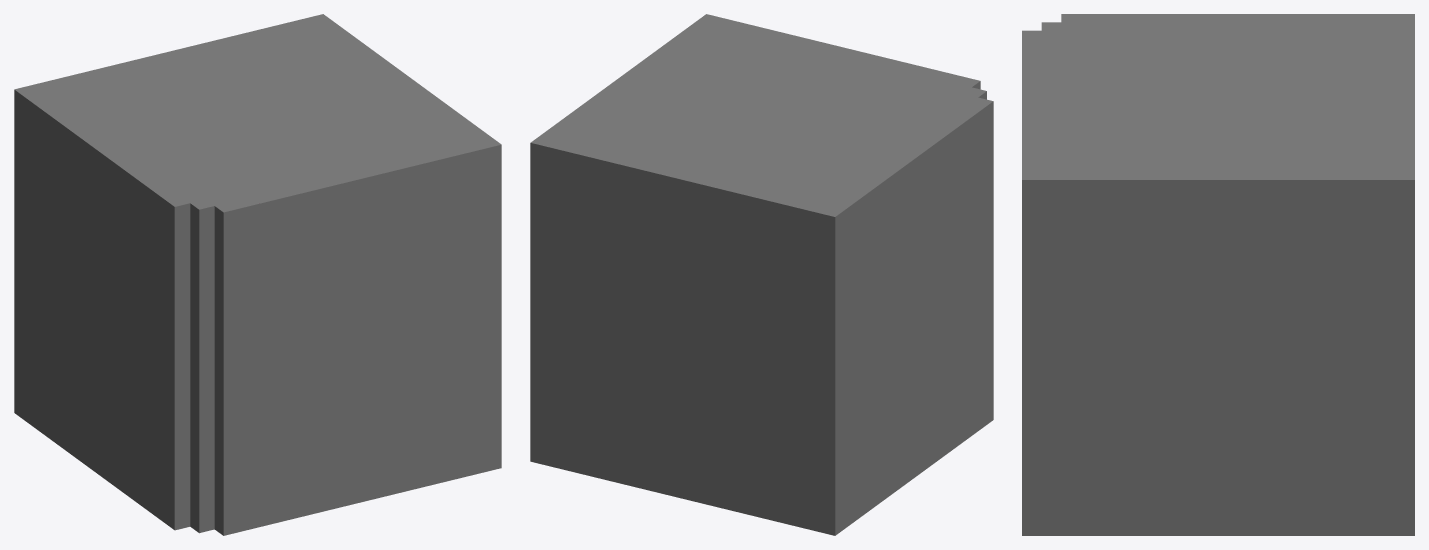
The model's file is full_corner.glb.
The picture shows the model from 3 angles, left to right: view 1: azimuth 30°, elevation 25°; view 2: azimuth 150°, elevation 25°; view 3: azimuth 270°, elevation 25°; orthographic projection. The views are drawn at different scales.
Parts seen in each view (by area): view 1: full_corner; view 2: full_corner; view 3: full_corner.
Part boxes in pixels (x1=…): full_corner: x1=14, y1=14, x2=501, y2=535; full_corner: x1=530, y1=14, x2=993, y2=535; full_corner: x1=1022, y1=14, x2=1414, y2=535.
Bounding box in the file's own units: 2 × 2 × 2.
1 material, 1 textured.
